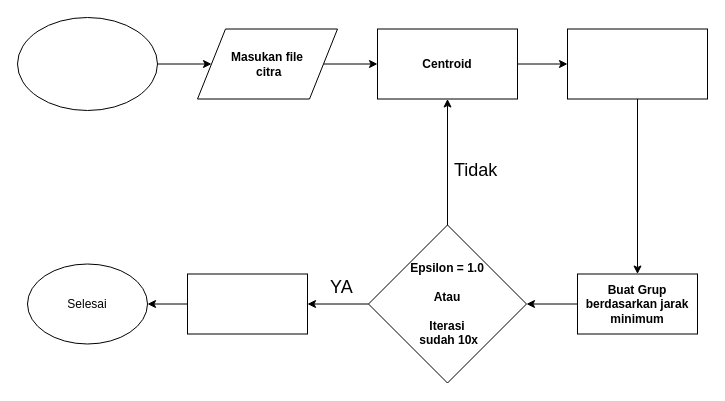
Image size: 725x401. Some labels were removed from this diagram. Here are the shapes that lost their labels. From the top down, the box of each, then its label:
(16, 16, 158, 110): Mulai
(566, 28, 708, 99): Jarak Objek ke Centroid
(186, 273, 308, 334): Output Hasil Clustering
